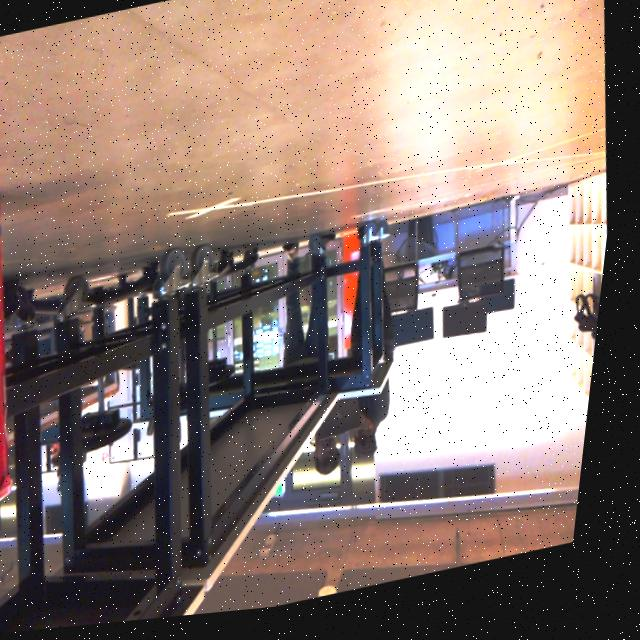redpringles: (0, 155, 83, 543)
